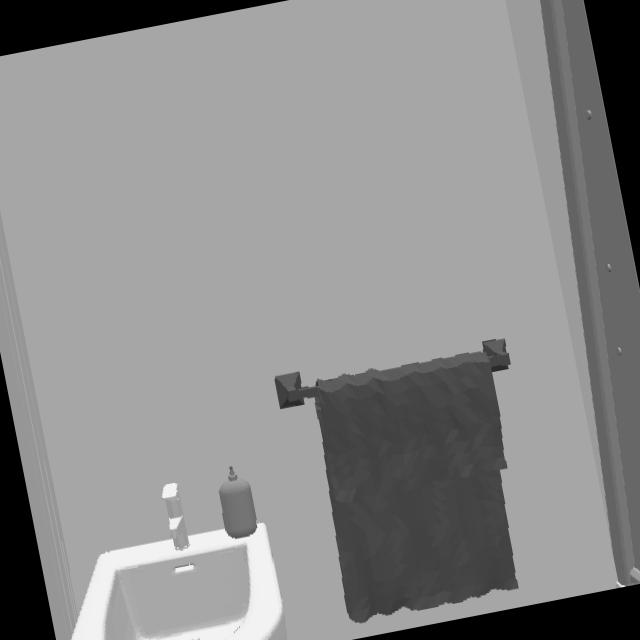shower: (543, 0, 640, 585)
